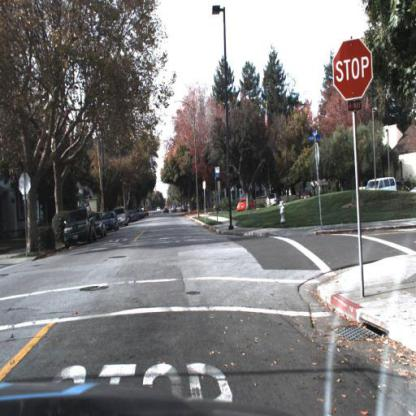car: (63, 204, 97, 251), (361, 178, 400, 195), (91, 204, 109, 240), (101, 210, 122, 234), (365, 177, 396, 192), (113, 206, 129, 228), (236, 196, 258, 212), (96, 210, 106, 240), (267, 192, 283, 210), (107, 210, 118, 236), (237, 199, 254, 215), (118, 206, 129, 229), (266, 193, 281, 205), (301, 191, 312, 201)
